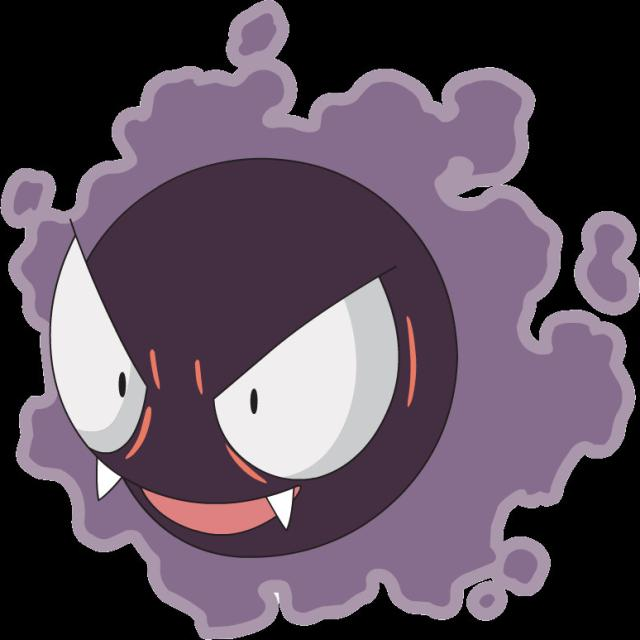Gastly: (31, 68, 540, 602)
